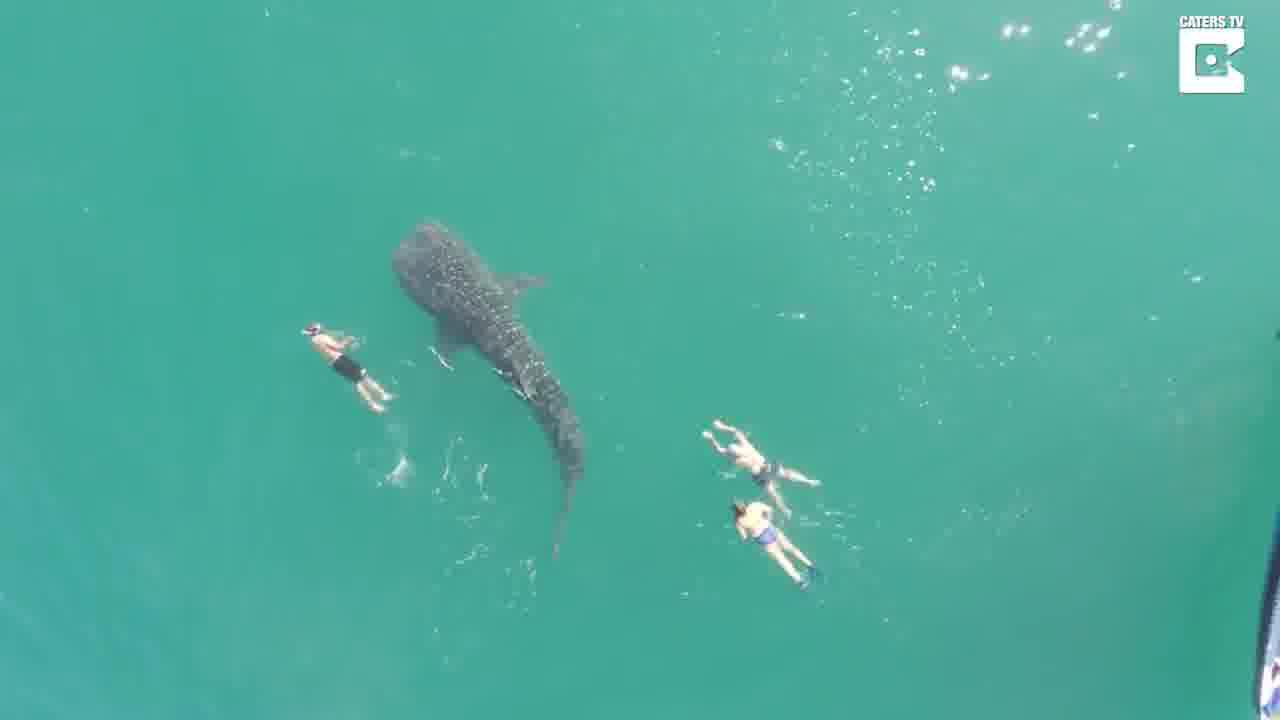human: (696, 424, 828, 512), (297, 322, 402, 417), (730, 500, 818, 586)
